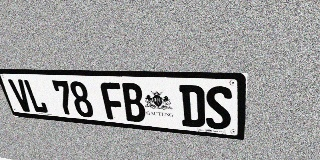7: (50, 80, 77, 116)
8: (68, 81, 95, 118)
B: (120, 83, 147, 123)
D: (179, 85, 205, 128)
F: (99, 82, 126, 121)
L: (22, 79, 49, 114)
S: (205, 86, 232, 130)
V: (7, 79, 34, 112)
